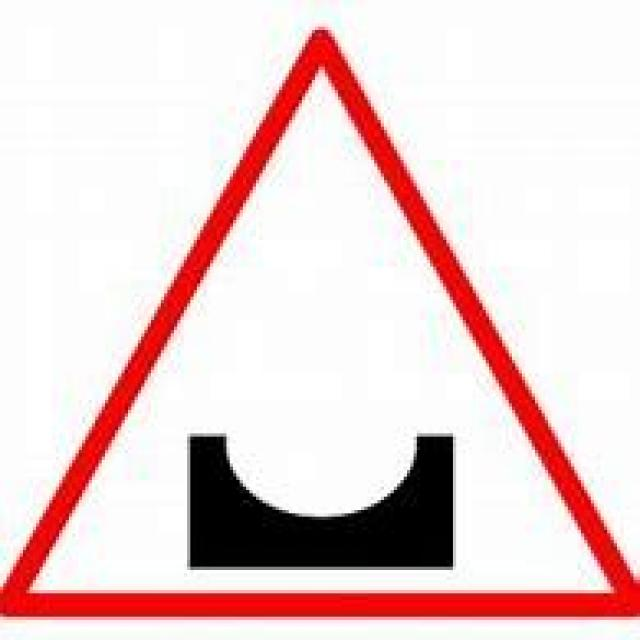DANGEROUS_DIP: (0, 24, 637, 614)
